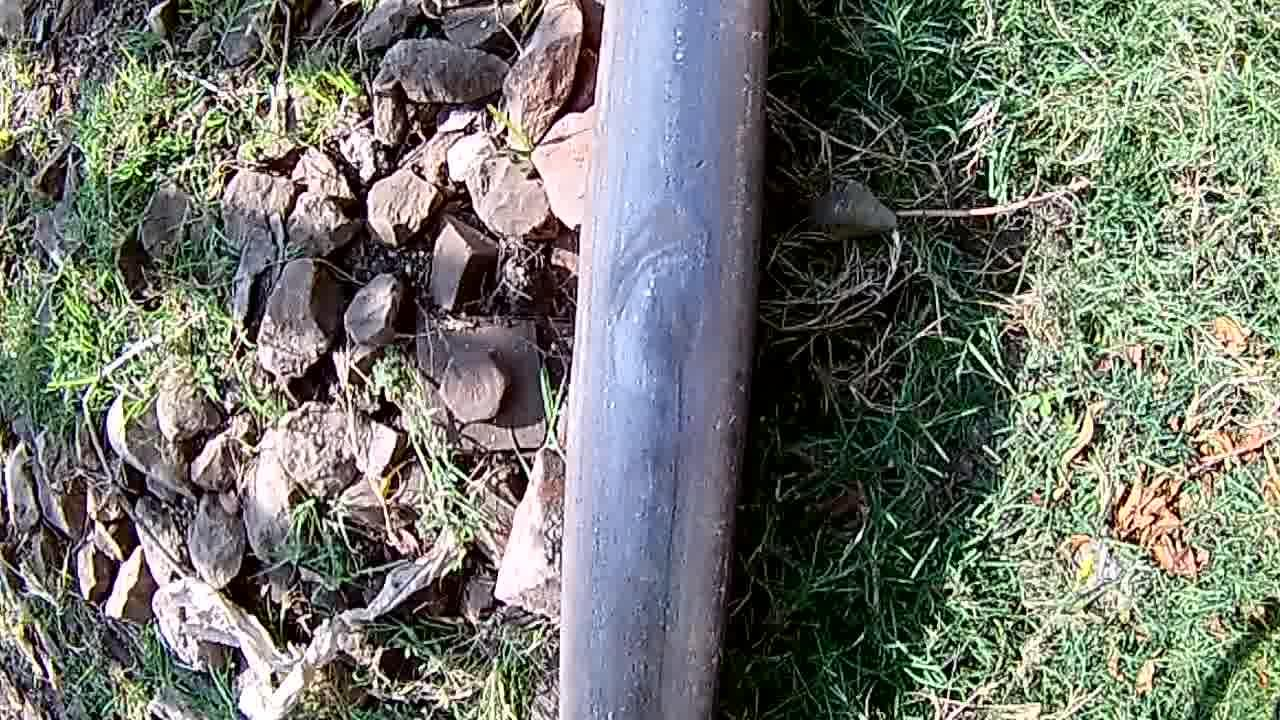bolt_missing: (592, 96, 764, 417)
